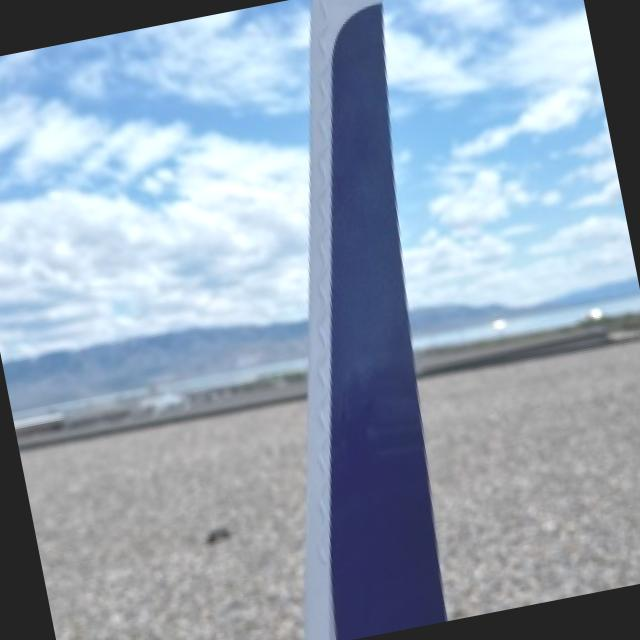healthy: (306, 0, 450, 640)
